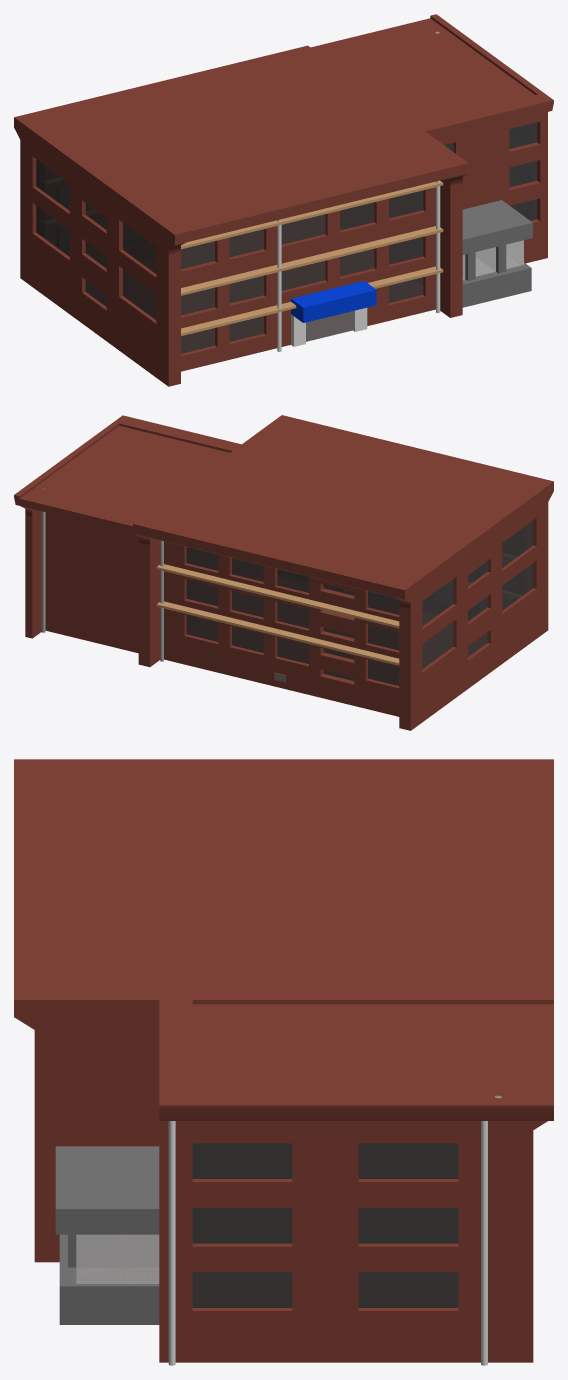
3 renders of one model, top to bottom at view 1: azimuth 30°, elevation 25°; view 2: azimuth 150°, elevation 25°; view 3: azimuth 270°, elevation 25°, orthographic. The views are drawn at different scales.
Parts seen in each view (by area): view 1: polySurface1; view 2: polySurface1; view 3: polySurface1.
Boxes of the visible parts, x1=… form: polySurface1: x1=14, y1=14, x2=553, y2=386; polySurface1: x1=14, y1=415, x2=553, y2=730; polySurface1: x1=14, y1=759, x2=553, y2=1365.
Bounding box in the file's own units: 34.5 × 12.2 × 22.75.
